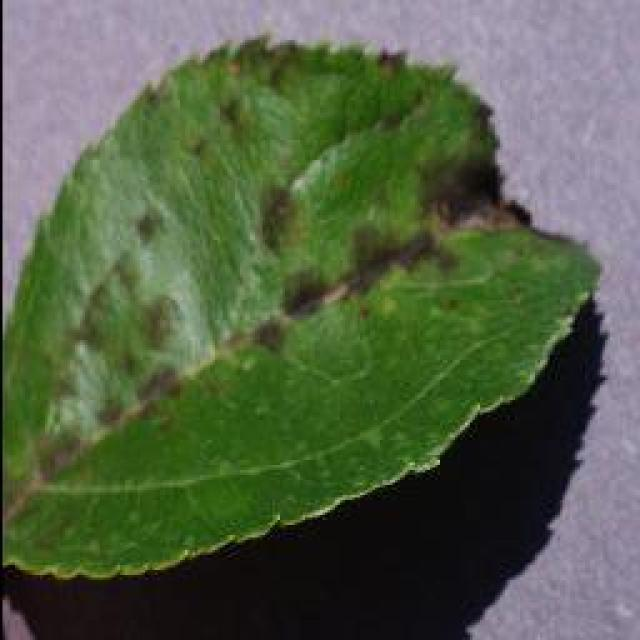apple scab disease: (0, 30, 602, 580)
